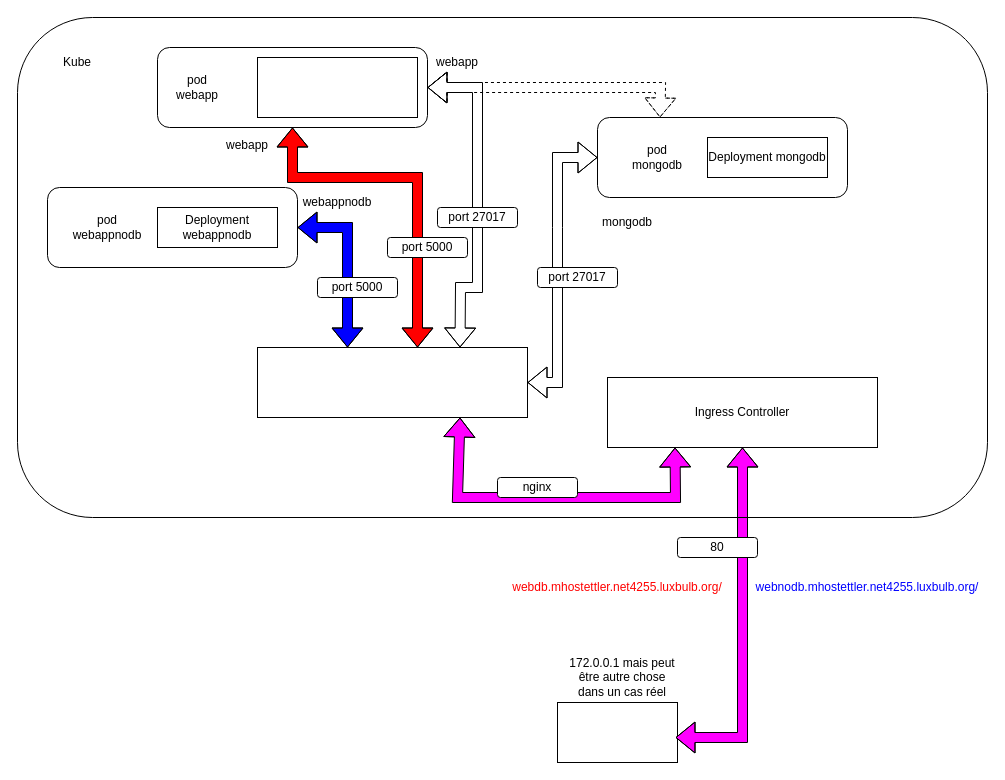
Some shapes in this 1005 by 780 pixel diagram are drawn without their labels. Here are the shapes that lost their labels. From the top down, the centre of each, then its label:
At (337,87): "Deployment webapp".
At (392,382): "ClusterIP controller".
At (617,732): "client".
